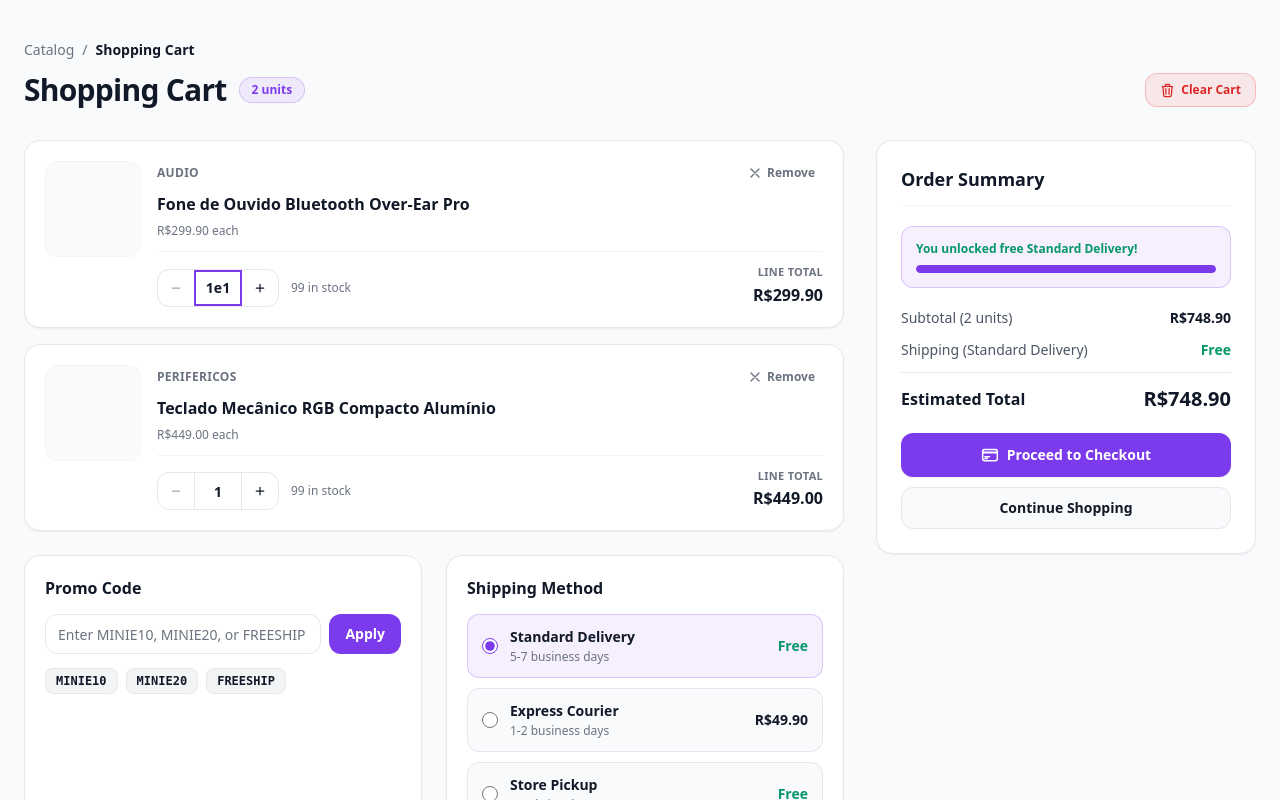
Test: AFTER Migration: CartPage with Redux Toolkit + createSelector + React.memo (React Profiler) › allows clearing quantity draft and committing on Enter/blur, plus coupons, removal, and clear cart
The image size is (1280, 800).
Earlier steps of the test are not shown.
Press Enter
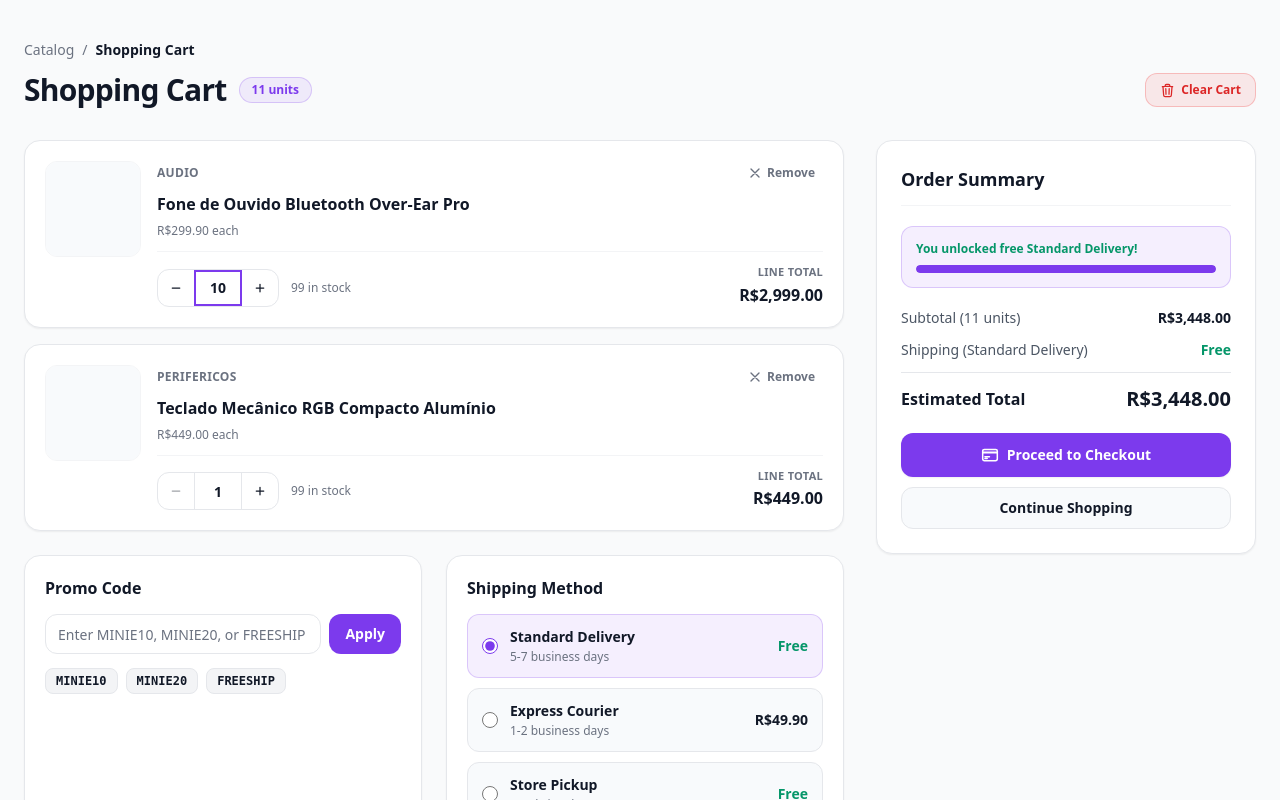
Replace the text in the number field named "Quantity for Fone de Ouvido Bluetooth Over-Ear Pro" with "3.9" at (218, 288), box x1=194 y1=270 x2=242 y2=306
Press Tab
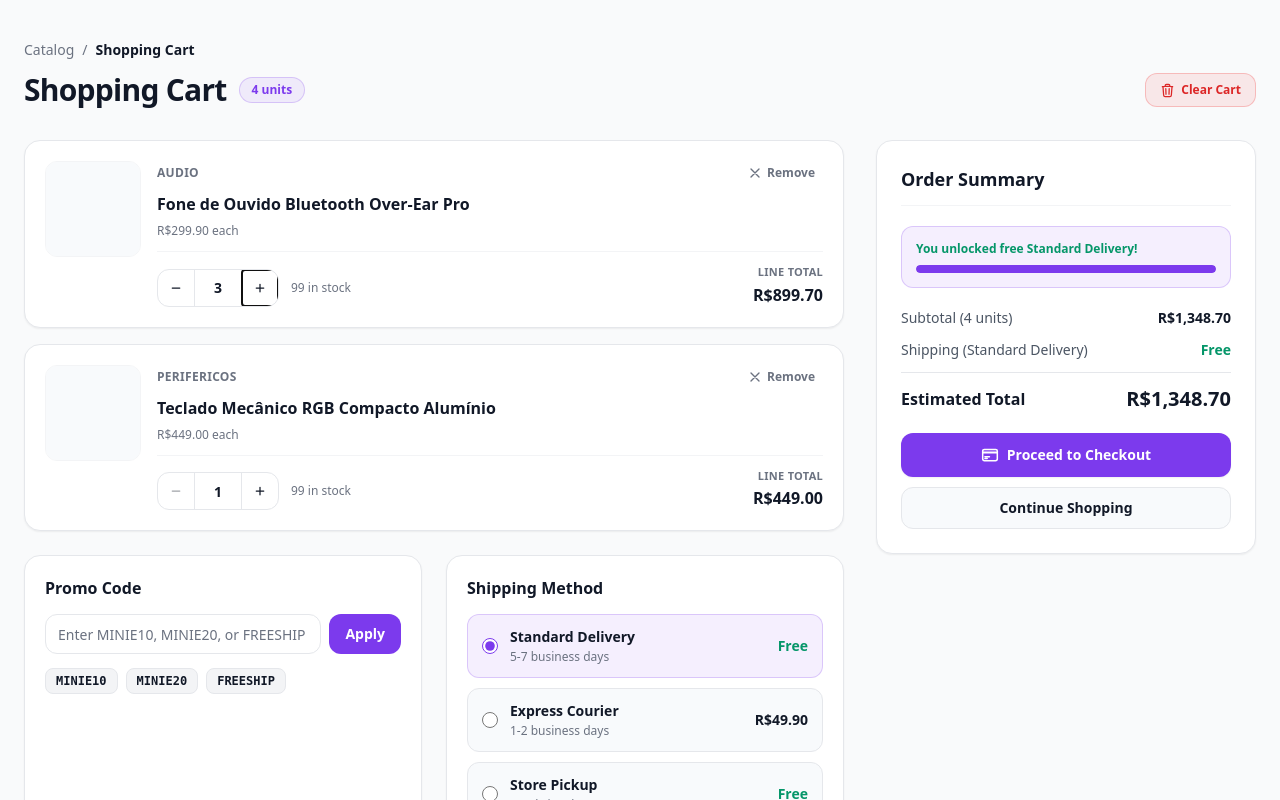
Expected: the text "4 units" is shown, x1=239 y1=77 x2=305 y2=103
Type "INVALID" into the field with placeholder "Enter MINIE10, MINIE20, or FREESHIP".
click(183, 634); type("INVALID")  # box x1=45 y1=614 x2=321 y2=654
Click the button "Apply".
click(365, 634)  # box x1=329 y1=614 x2=401 y2=654
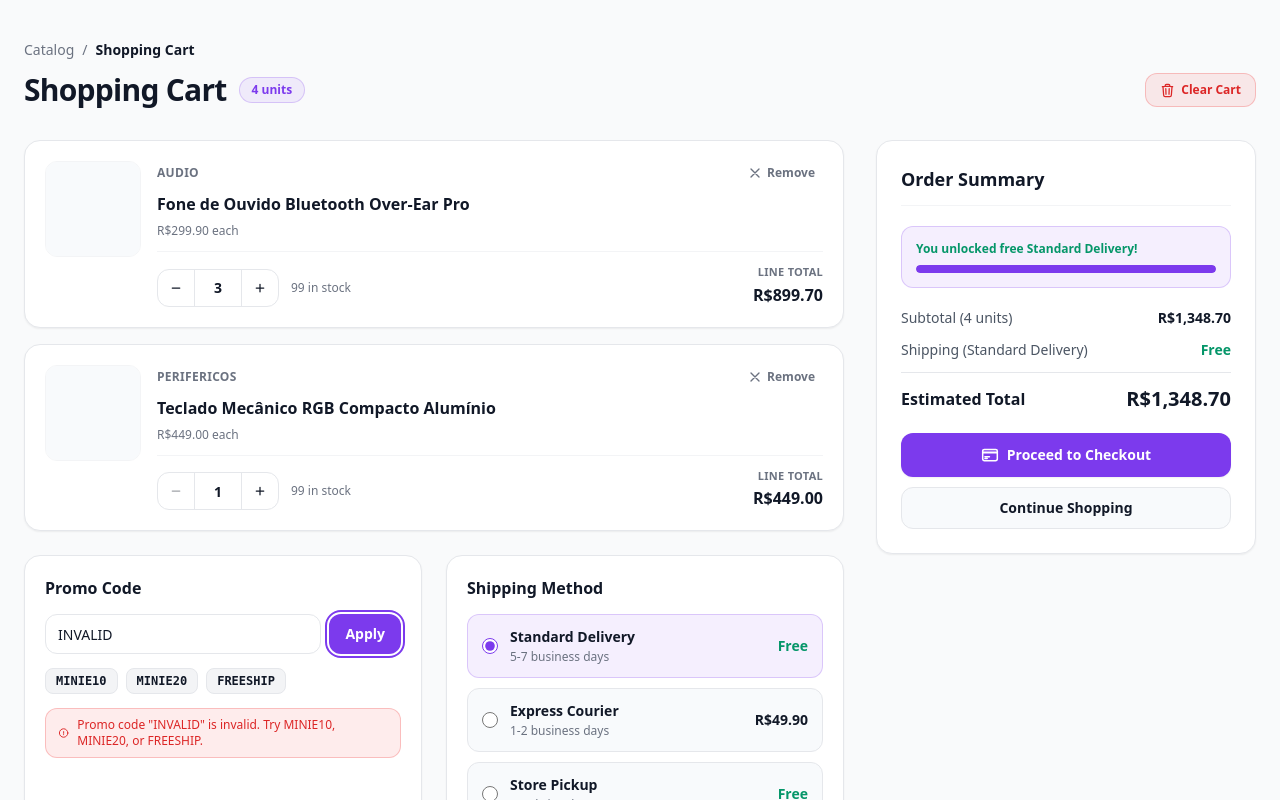
Expected: the message shows "INVALID", x1=77 y1=716 x2=335 y2=749
Click the button "MINIE10".
click(81, 681)  # box x1=45 y1=668 x2=118 y2=694
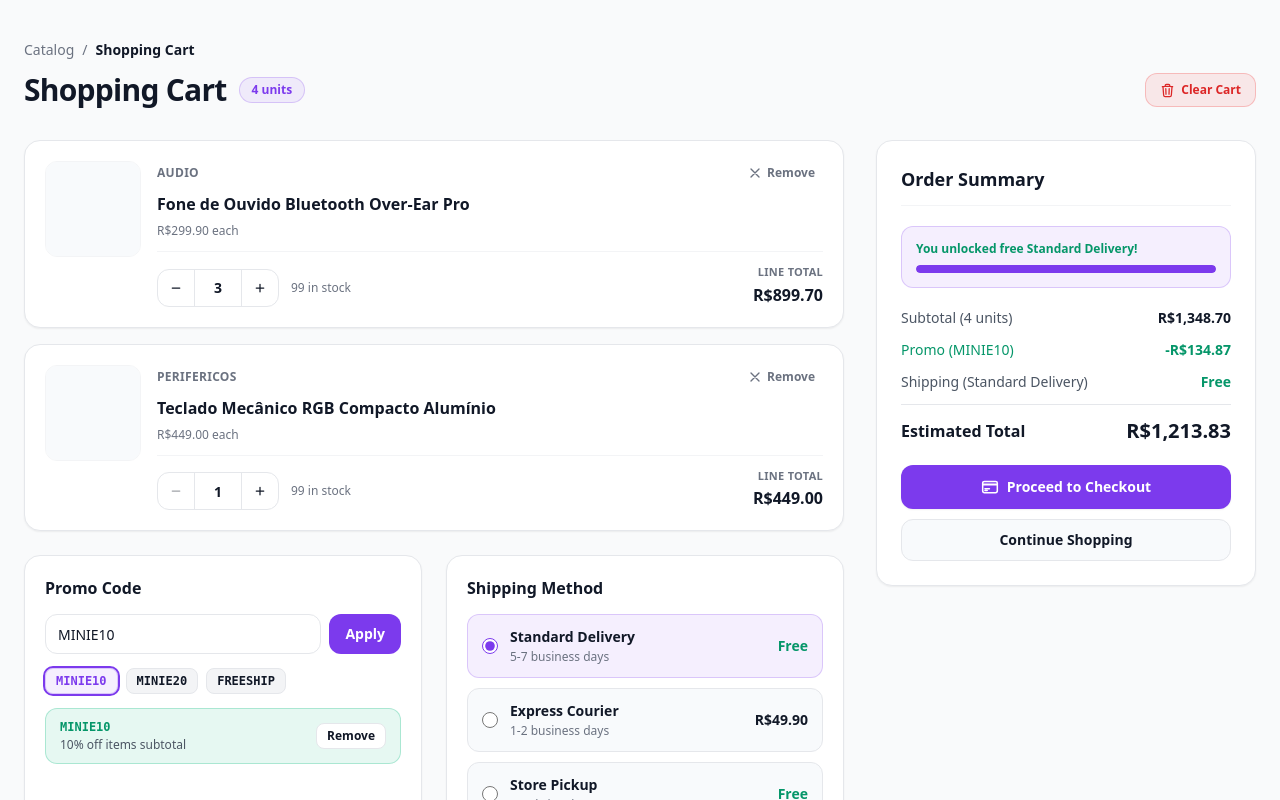
Expected: the text "Promo (MINIE10)" is shown, x1=901 y1=340 x2=1014 y2=360
Click the button "Remove" in the row of "audio".
click(781, 173)  # box x1=739 y1=161 x2=823 y2=185
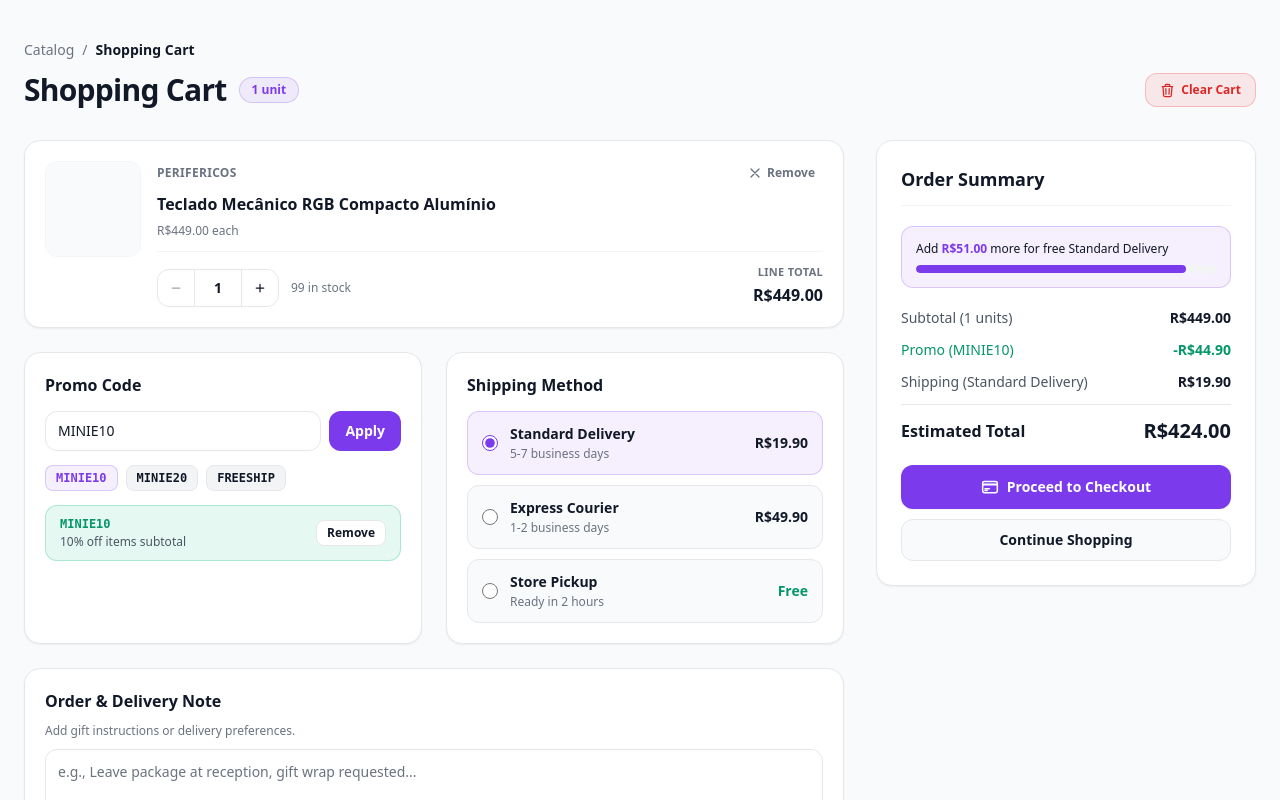
Expected: the link "Fone de Ouvido Bluetooth Over-Ear Pro" is gone
Expected: the text "1 unit" is shown, x1=239 y1=77 x2=299 y2=103
Click the button "Clear Cart".
click(1201, 90)  # box x1=1145 y1=73 x2=1256 y2=107
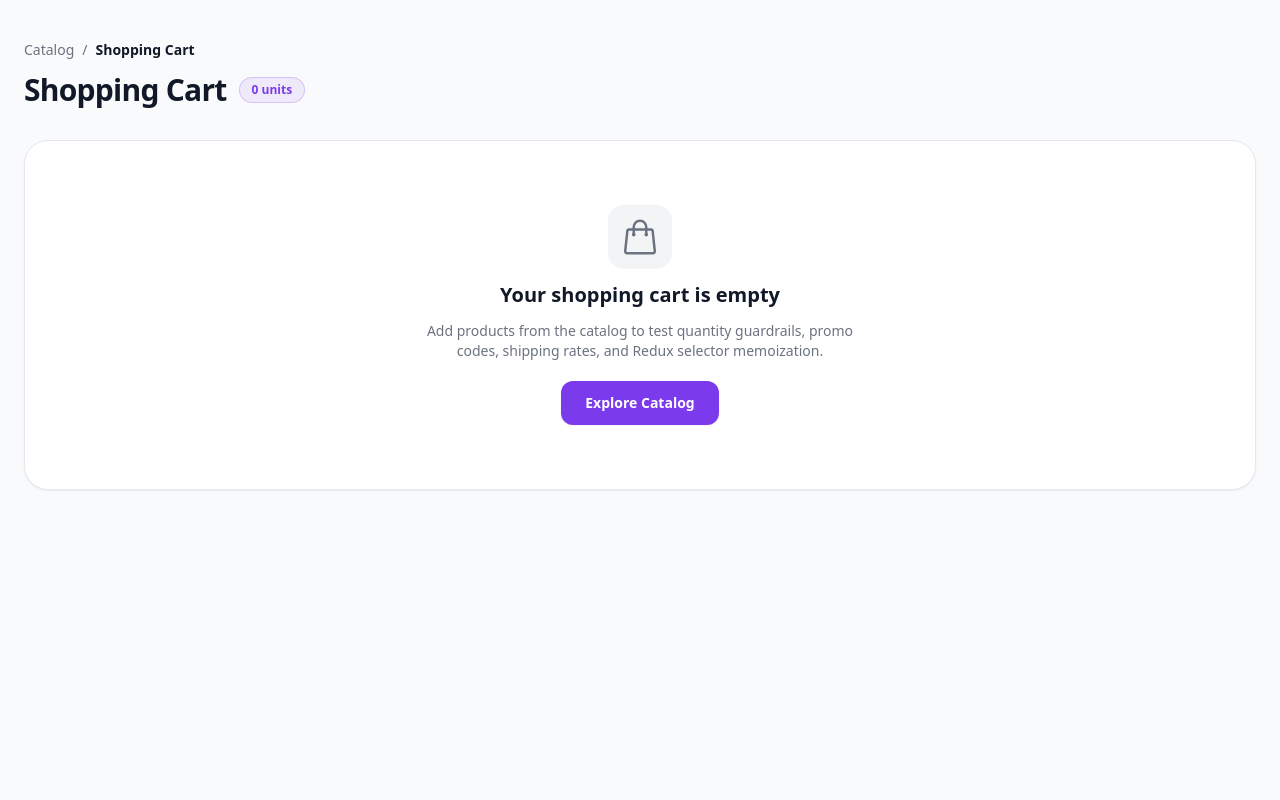
Expected: the heading "Your shopping cart is empty" is shown, x1=500 y1=281 x2=780 y2=309
